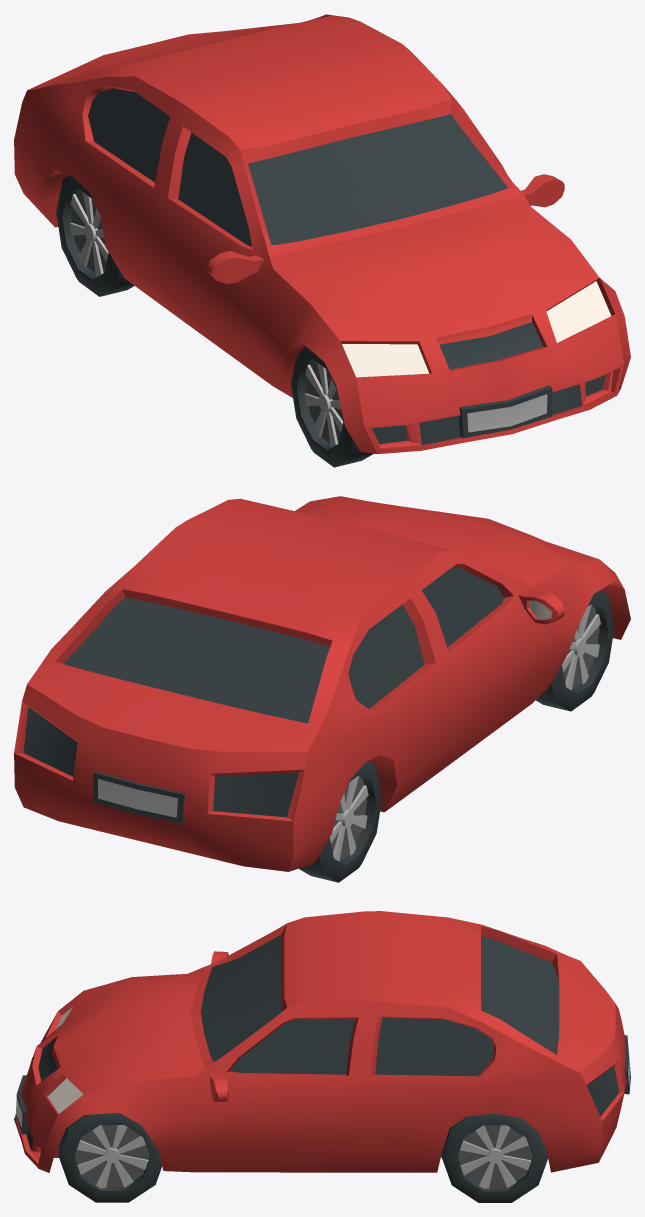
The model's file is Car_01.fbx.
3 renders of one model, top to bottom at view 1: azimuth 30°, elevation 25°; view 2: azimuth 150°, elevation 25°; view 3: azimuth 270°, elevation 25°, orthographic. The views are drawn at different scales.
Parts seen in each view (by area): view 1: Car_01, Car_01_Front_Right, Car_01_Back_Right; view 2: Car_01, Car_01_Back_Right, Car_01_Front_Right; view 3: Car_01, Car_01_Back_Left, Car_01_Front_Left.
Boxes of the visible parts, x1,y1,x2,y2 form: Car_01: [14, 14, 630, 454]; Car_01_Front_Right: [290, 346, 373, 467]; Car_01_Back_Right: [56, 175, 134, 296]; Car_01: [14, 496, 630, 871]; Car_01_Back_Right: [299, 761, 381, 882]; Car_01_Front_Right: [536, 590, 614, 711]; Car_01: [14, 911, 630, 1172]; Car_01_Back_Left: [441, 1113, 548, 1202]; Car_01_Front_Left: [58, 1113, 162, 1202].
Bounding box in the file's own units: 0.178 × 0.1145 × 0.3288.
